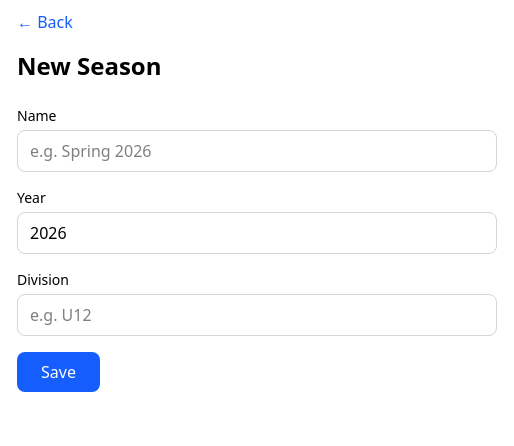
Test: CreateSeason › shows validation error for empty name
Click the button "Save". click: (58, 372)
box: [17,352,100,392]
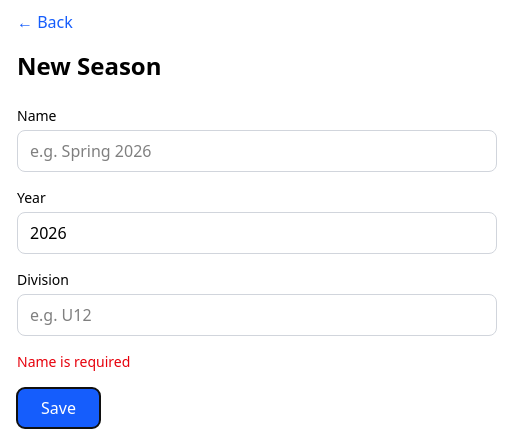
Now the text "Name is required" is shown, box [17,352,130,371]
